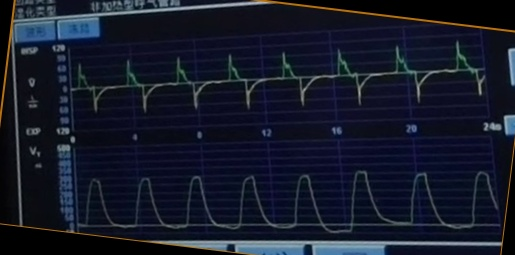Accumulation Flow: (71, 40, 485, 115)
Volume: (79, 166, 498, 233)
